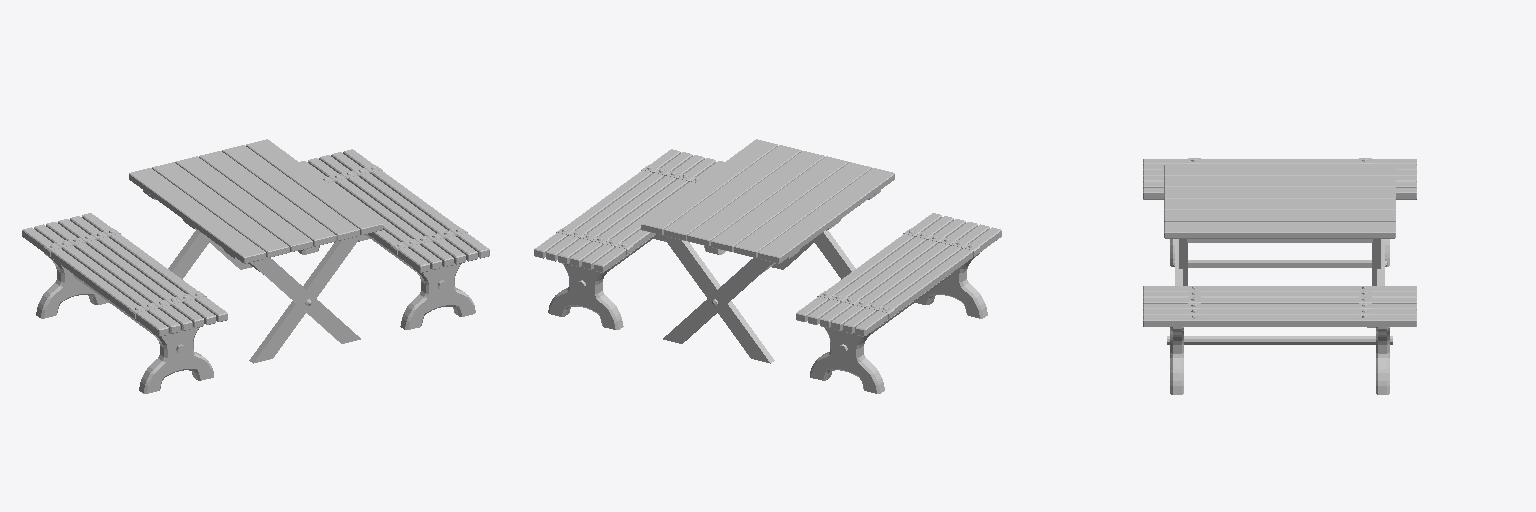
The model's file is BancaPicnic.obj.
3 renders of one model, left to right at view 1: azimuth 30°, elevation 25°; view 2: azimuth 150°, elevation 25°; view 3: azimuth 270°, elevation 25°, orthographic.
Visible parts, largest first — view 1: table_Plane_009, boards__001_Plane, boards__Plane_014, table_legs__Plane_010, bench_legs__Plane_005, bench_legs__001_Plane_015, strip_Plane_007, strip_001_Plane_016; view 2: table_Plane_009, boards__001_Plane, boards__Plane_014, table_legs__Plane_010, bench_legs__Plane_005, bench_legs__001_Plane_015, strip_Plane_007, strip_001_Plane_016; view 3: table_Plane_009, boards__Plane_014, boards__001_Plane, crossbar_table_Cube_002, bench_legs__001_Plane_015, crossbar_Cube_006, table_legs__Plane_010, strip_001_Plane_016.
Part boxes in pixels (left/top/right/bottom): table_Plane_009: left=129, top=139, right=382, bottom=263; boards__001_Plane: left=22, top=213, right=227, bottom=336; boards__Plane_014: left=300, top=149, right=489, bottom=272; table_legs__Plane_010: left=168, top=229, right=361, bottom=363; bench_legs__Plane_005: left=36, top=253, right=213, bottom=393; bench_legs__001_Plane_015: left=298, top=235, right=475, bottom=329; strip_Plane_007: left=44, top=229, right=206, bottom=318; strip_001_Plane_016: left=321, top=165, right=467, bottom=254; table_Plane_009: left=641, top=139, right=894, bottom=263; boards__001_Plane: left=796, top=213, right=1001, bottom=336; boards__Plane_014: left=534, top=149, right=723, bottom=272; table_legs__Plane_010: left=662, top=229, right=855, bottom=363; bench_legs__Plane_005: left=810, top=253, right=987, bottom=393; bench_legs__001_Plane_015: left=548, top=235, right=725, bottom=329; strip_Plane_007: left=817, top=229, right=979, bottom=318; strip_001_Plane_016: left=556, top=165, right=702, bottom=254; table_Plane_009: left=1164, top=164, right=1395, bottom=238; boards__Plane_014: left=1143, top=286, right=1416, bottom=326; boards__001_Plane: left=1143, top=159, right=1416, bottom=199; crossbar_table_Cube_002: left=1188, top=239, right=1371, bottom=267; bench_legs__001_Plane_015: left=1170, top=327, right=1389, bottom=394; crossbar_Cube_006: left=1167, top=336, right=1392, bottom=344; table_legs__Plane_010: left=1175, top=239, right=1384, bottom=285; strip_001_Plane_016: left=1188, top=286, right=1371, bottom=325.
Bounding box in the file's own units: 20.14 × 6.68 × 14.36.